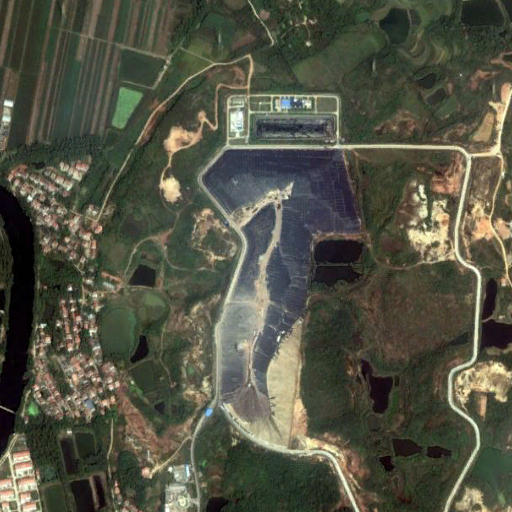lf: (199, 146, 360, 451)
